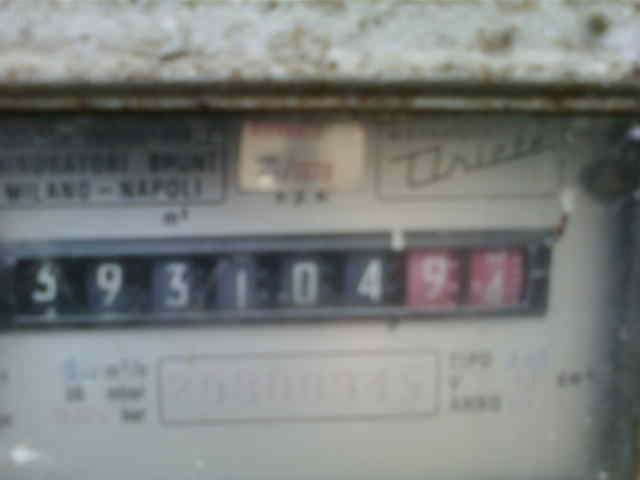ssgc: (6, 238, 551, 321)
